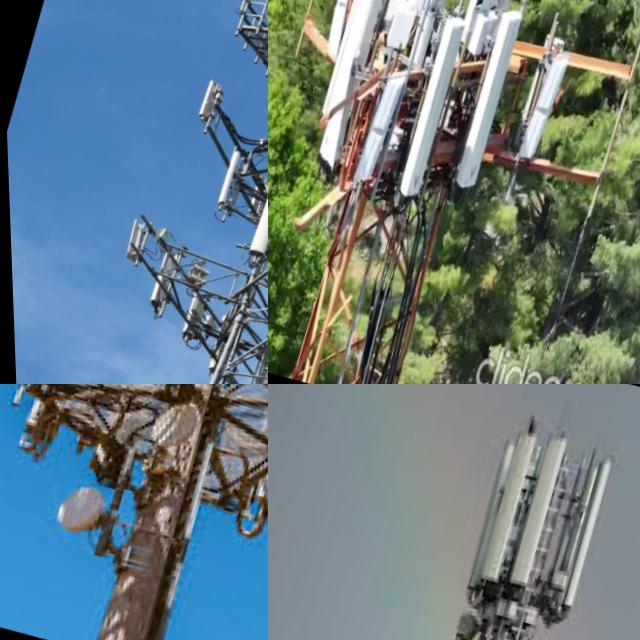GSM Antenna: (384, 12, 479, 211), (441, 8, 533, 203), (302, 0, 397, 170), (496, 427, 581, 600), (466, 427, 549, 591), (549, 456, 625, 620), (508, 54, 575, 181), (345, 68, 409, 199), (320, 0, 389, 76), (204, 144, 249, 223), (180, 71, 227, 130), (141, 249, 181, 318), (242, 188, 268, 265), (176, 290, 208, 345), (118, 218, 149, 264)
Microwave Antenna: (47, 478, 113, 547), (146, 399, 203, 463), (447, 610, 484, 640)
